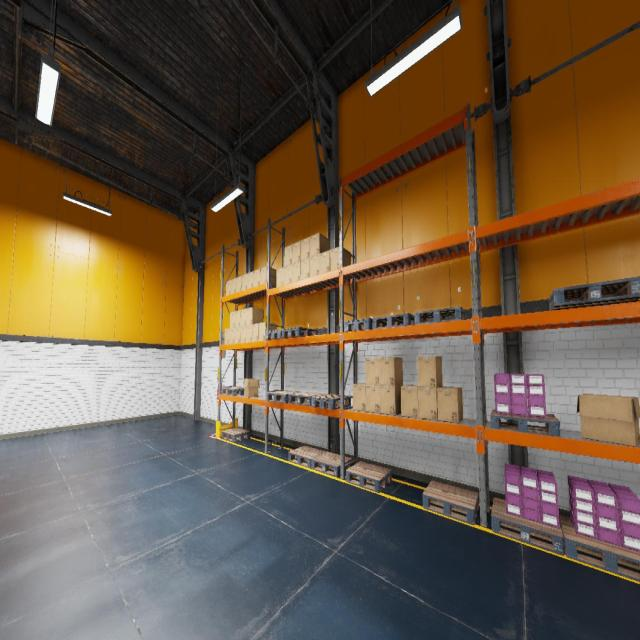box: (576, 394, 640, 446), (437, 386, 463, 423), (418, 356, 442, 388), (379, 357, 403, 386), (380, 384, 403, 414), (418, 387, 438, 420), (401, 385, 418, 418), (330, 247, 351, 270), (310, 232, 329, 257), (366, 385, 380, 413), (352, 383, 366, 411), (366, 357, 380, 385), (258, 322, 276, 341), (246, 307, 264, 325), (260, 266, 276, 286), (243, 379, 260, 397), (320, 250, 330, 274), (300, 237, 310, 260), (310, 254, 319, 277), (292, 241, 300, 263), (284, 244, 292, 266), (301, 258, 309, 279), (292, 261, 300, 282), (284, 264, 292, 284), (276, 266, 284, 286), (252, 323, 259, 341), (253, 268, 260, 286), (240, 309, 247, 326), (248, 270, 254, 288), (246, 325, 252, 342), (240, 326, 246, 342), (224, 328, 230, 344), (236, 276, 242, 292), (229, 328, 235, 343), (235, 310, 240, 327), (230, 311, 235, 328), (235, 327, 240, 343), (242, 274, 247, 290), (231, 278, 236, 294), (226, 280, 231, 295)
pallets: (559, 514, 640, 582), (491, 497, 564, 555), (548, 276, 640, 310), (422, 481, 479, 525), (490, 409, 560, 437), (346, 462, 392, 492), (311, 452, 352, 477), (414, 306, 465, 324), (288, 446, 326, 468), (372, 313, 414, 329), (311, 394, 351, 410), (288, 392, 326, 406), (266, 390, 301, 403), (282, 326, 317, 338), (221, 428, 250, 442), (344, 318, 372, 332), (265, 330, 288, 340), (222, 387, 244, 395), (635, 298, 640, 301)
